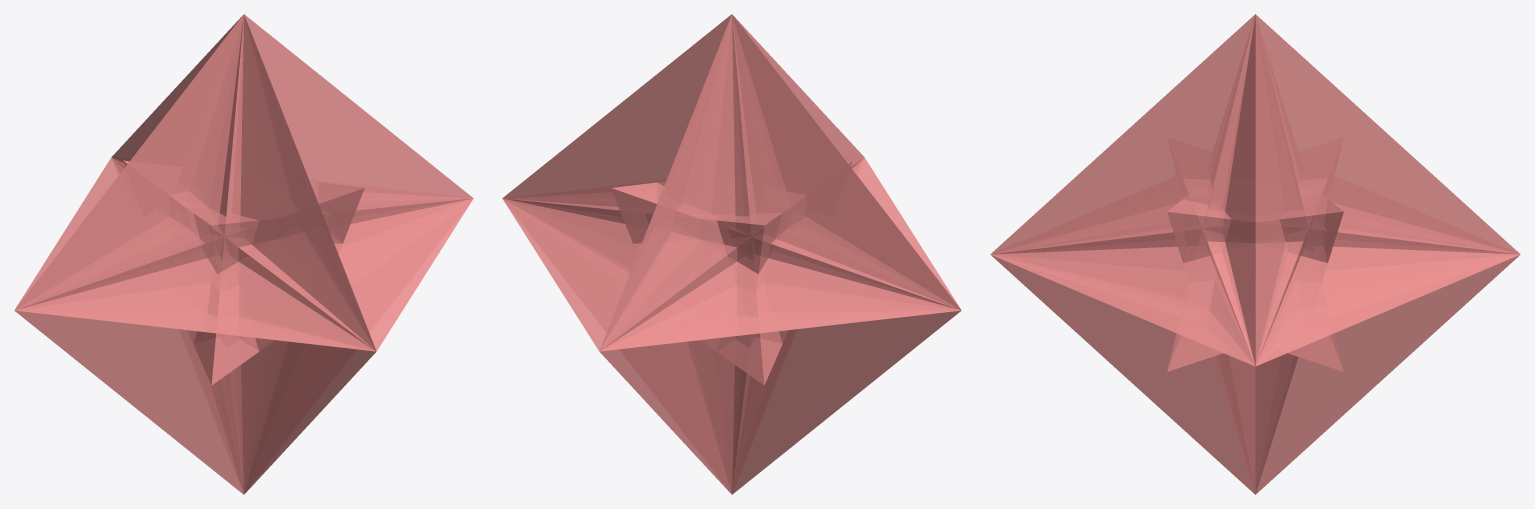
The model's file is 04_Octa-excavated_Octahedron.obj.
The picture shows the model from 3 angles, left to right: view 1: azimuth 30°, elevation 25°; view 2: azimuth 150°, elevation 25°; view 3: azimuth 270°, elevation 25°; orthographic projection.
Size of the model in its own units: 1.41 by 1.41 by 1.41.
